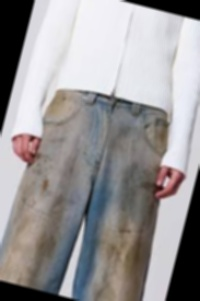earth: (101, 228, 152, 278), (37, 195, 64, 258), (51, 91, 69, 117), (155, 126, 168, 143), (40, 179, 51, 194)
